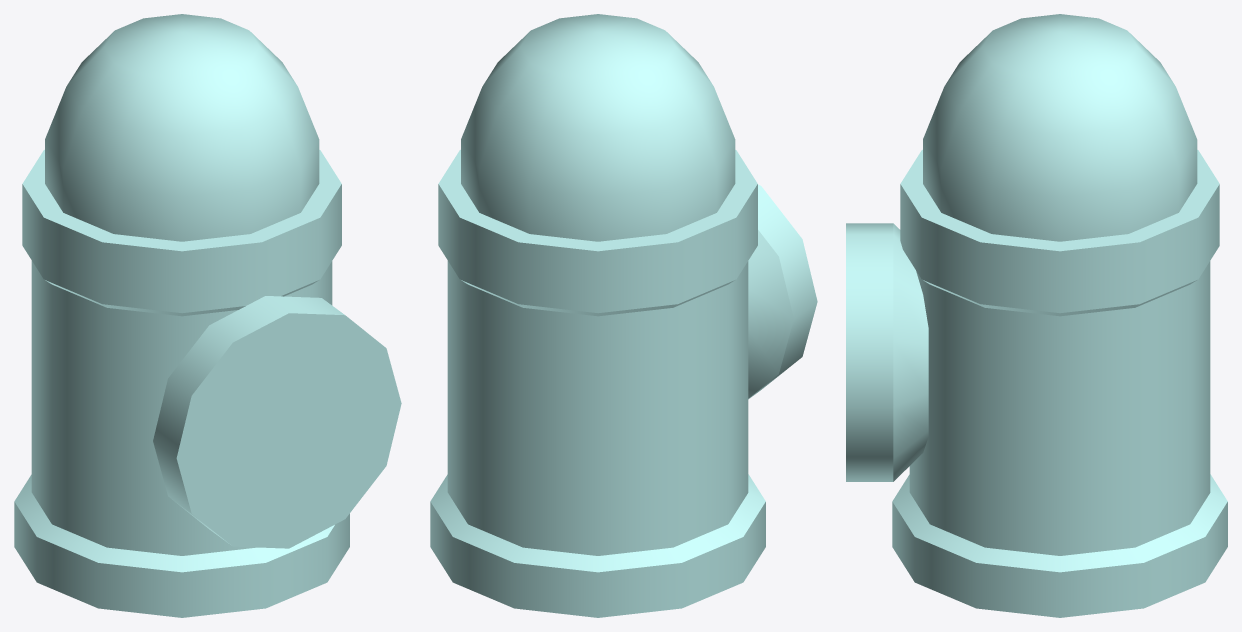
Rendered from lamp.glb.
The picture shows the model from 3 angles, left to right: view 1: azimuth 30°, elevation 25°; view 2: azimuth 150°, elevation 25°; view 3: azimuth 270°, elevation 25°; orthographic projection.
Visible parts, largest first — view 1: lamp; view 2: lamp; view 3: lamp.
Part boxes in pixels (left/top/right/bottom): lamp: left=14, top=14, right=401, bottom=617; lamp: left=430, top=14, right=817, bottom=617; lamp: left=846, top=14, right=1227, bottom=617.
Bounding box in the file's own units: 0.9 × 1.52 × 1.02.
